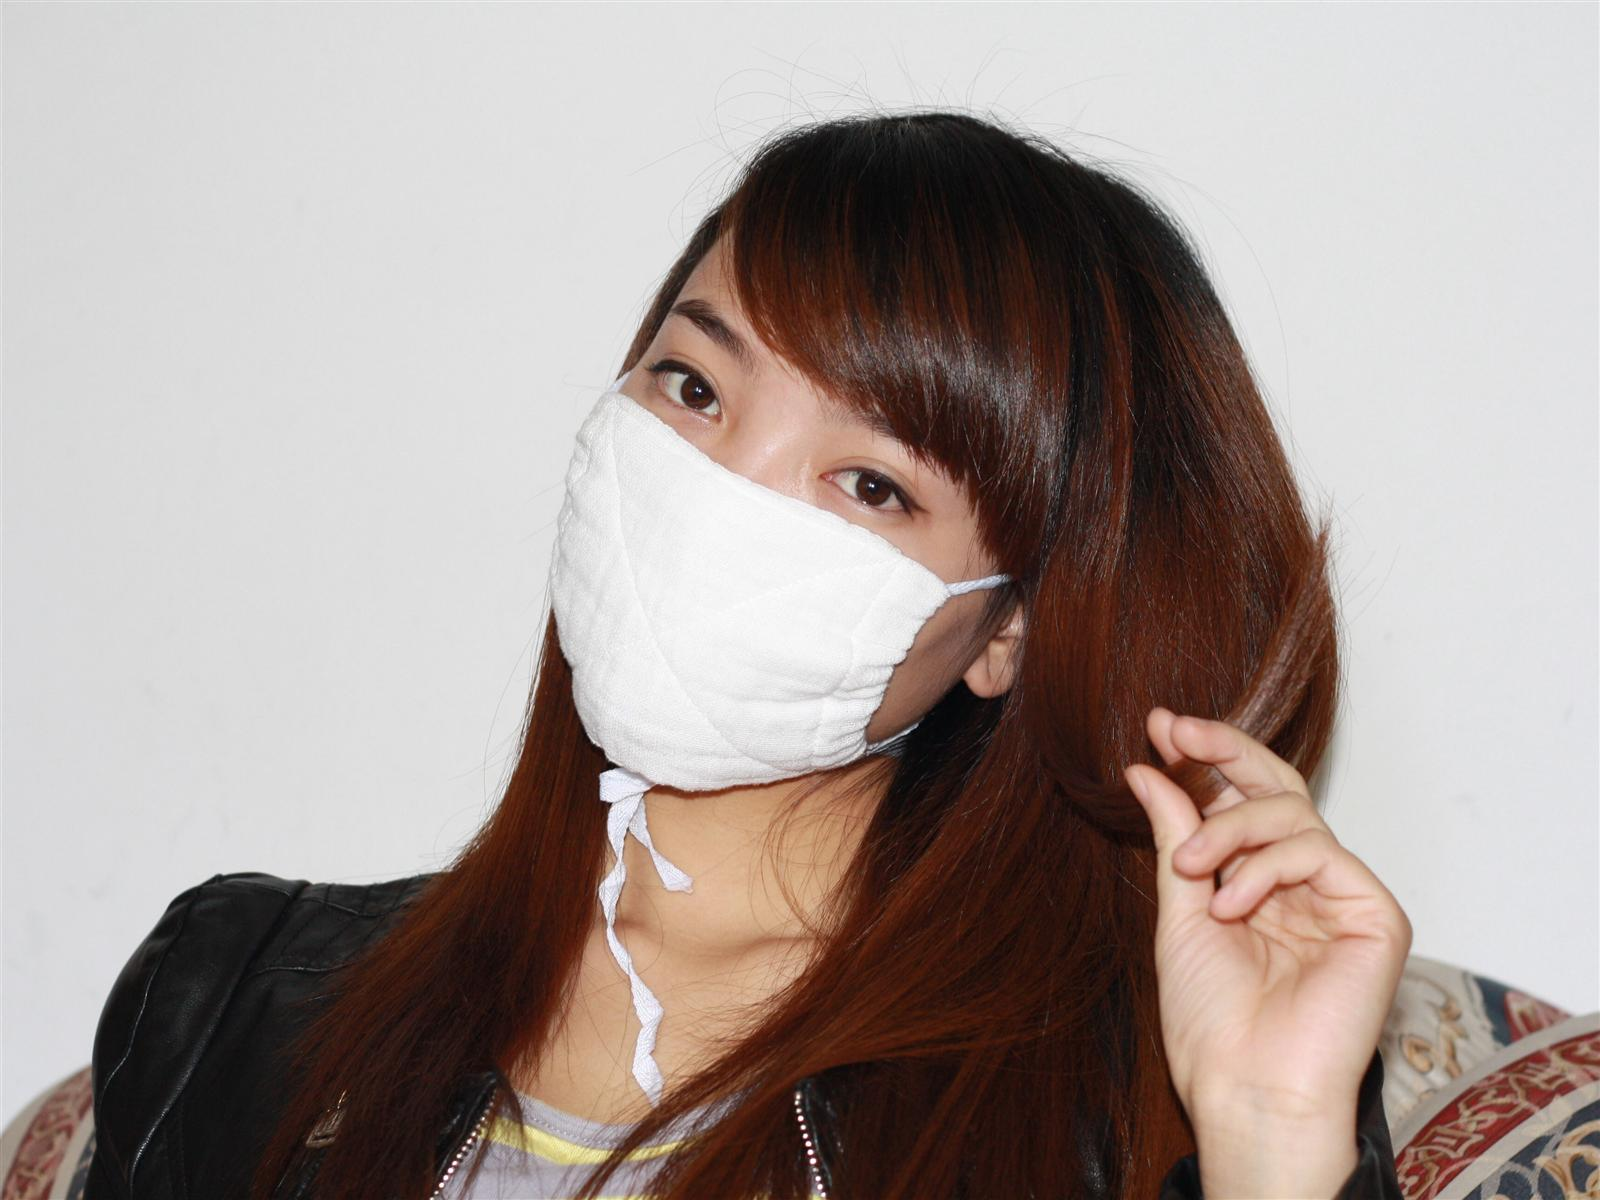face_mask: (547, 238, 947, 791)
